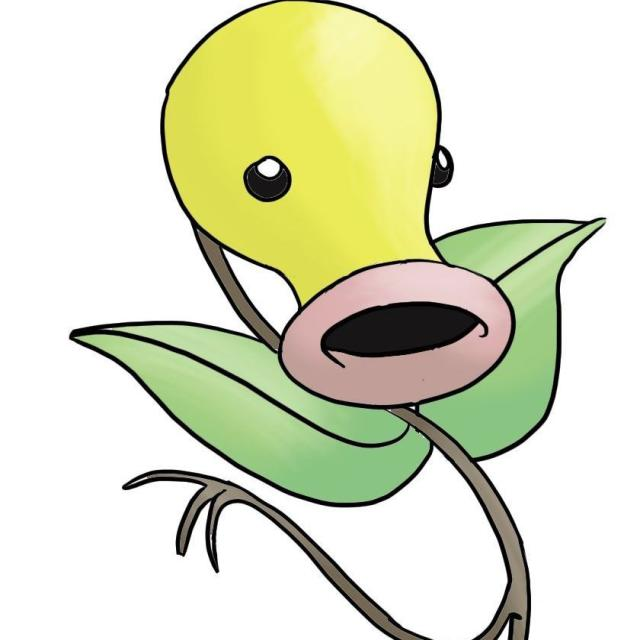Bellsprout: (160, 0, 538, 632)
